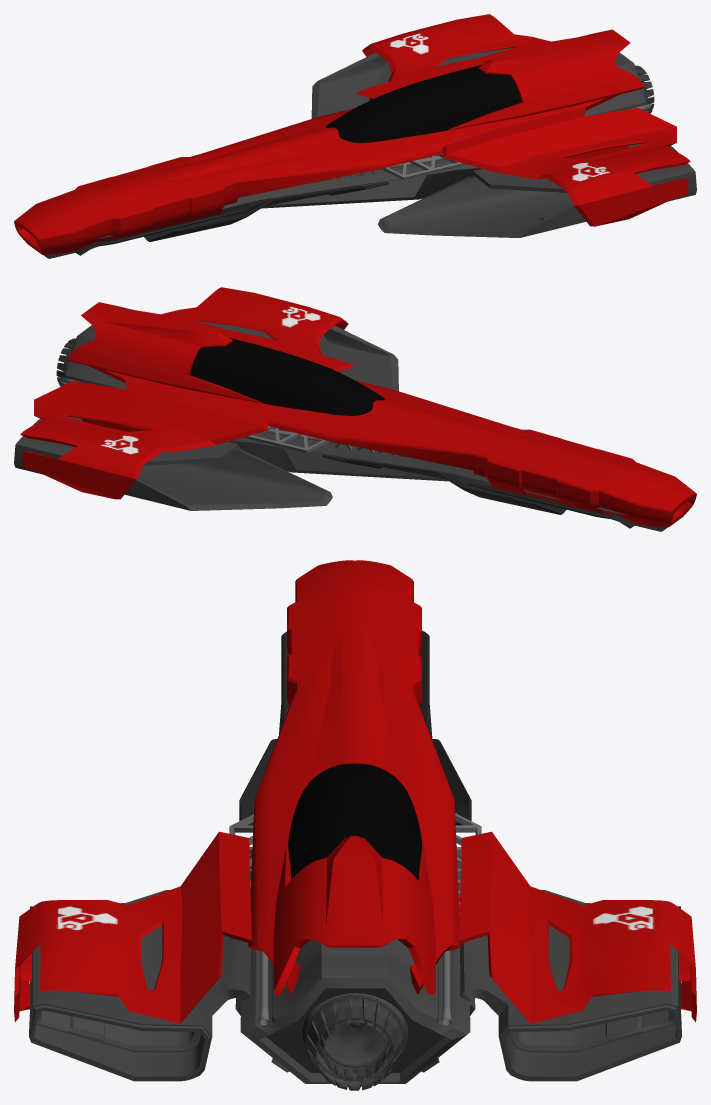
File: SGJ18_Ship.obj
The picture shows the model from 3 angles, top to bottom: view 1: azimuth 30°, elevation 25°; view 2: azimuth 150°, elevation 25°; view 3: azimuth 270°, elevation 25°; orthographic projection. The views are drawn at different scales.
Parts seen in each view (by area): view 1: Ship; view 2: Ship; view 3: Ship.
Boxes of the visible parts, x1,y1,x2,y2 form: Ship: (14, 14, 696, 258); Ship: (14, 287, 696, 531); Ship: (14, 560, 696, 1090).
Bounding box in the file's own units: 8.09 × 1.36 × 4.95.
